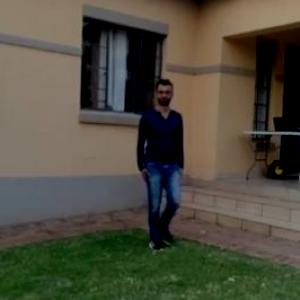follow: (124, 87, 176, 241)
